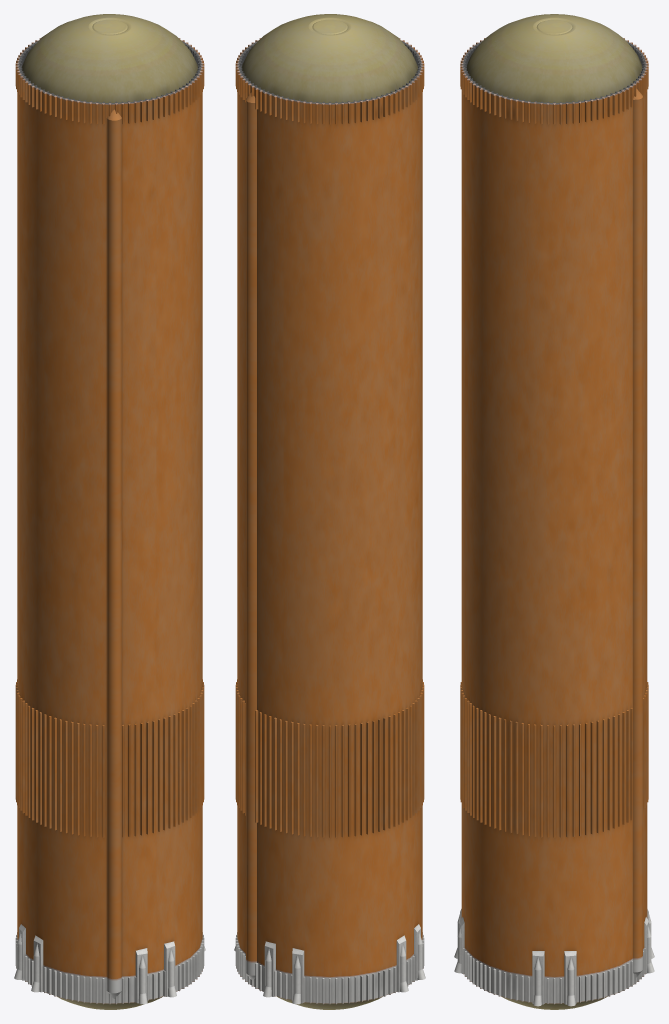
File: ksprocket.fbx
3 views of the same model, side by side, from view 1: azimuth 30°, elevation 25°; view 2: azimuth 150°, elevation 25°; view 3: azimuth 270°, elevation 25° (orthographic).
Visible parts, largest first — view 1: tank.008, bits.006; view 2: tank.008, bits.006; view 3: tank.008, bits.006.
Boxes of the visible parts, left/top/right/bottom form: tank.008: left=15, top=38, right=204, bottom=1004; bits.006: left=14, top=14, right=205, bottom=1009; tank.008: left=235, top=38, right=424, bottom=1004; bits.006: left=234, top=14, right=425, bottom=1009; tank.008: left=460, top=38, right=648, bottom=1004; bits.006: left=454, top=14, right=654, bottom=1009.
Bounding box in the file's own units: 1090 × 5841 × 1090.
